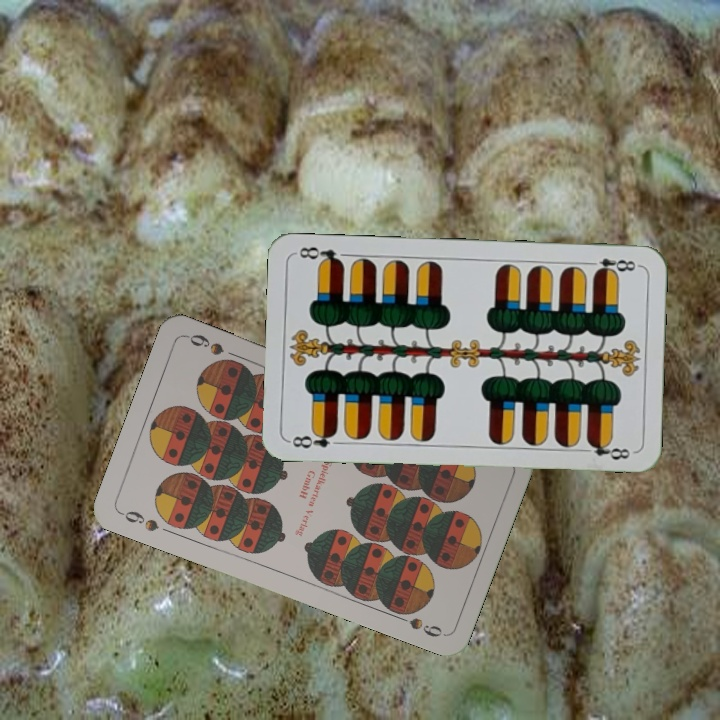E8: (582, 254, 642, 278), (286, 426, 340, 451)
S9: (116, 506, 162, 534)
